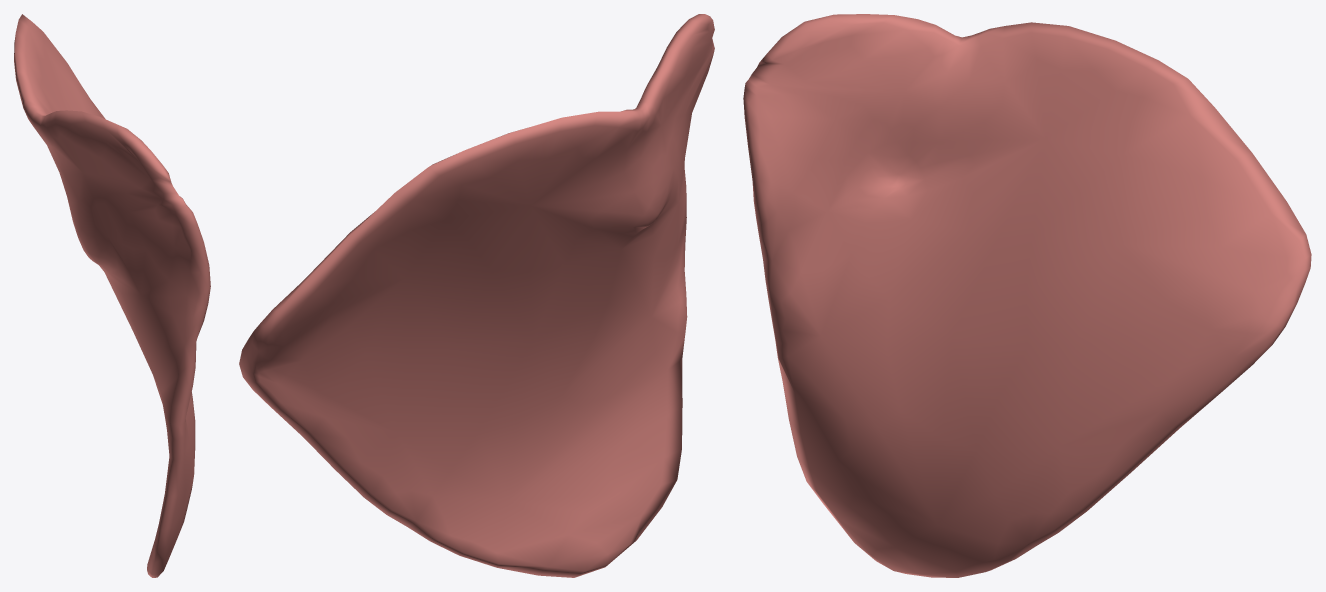
3 renders of one model, left to right at view 1: azimuth 30°, elevation 25°; view 2: azimuth 150°, elevation 25°; view 3: azimuth 270°, elevation 25°, orthographic. The views are drawn at different scales.
Parts seen in each view (by area): view 1: ZA_4bb4c771f36024dc; view 2: ZA_4bb4c771f36024dc; view 3: ZA_4bb4c771f36024dc.
Boxes of the visible parts, x1,y1,x2,y2 form: ZA_4bb4c771f36024dc: [14, 14, 210, 577]; ZA_4bb4c771f36024dc: [239, 14, 714, 577]; ZA_4bb4c771f36024dc: [743, 14, 1311, 577].
Bounding box in the file's own units: 0.00635 × 0.0134 × 0.0132.
